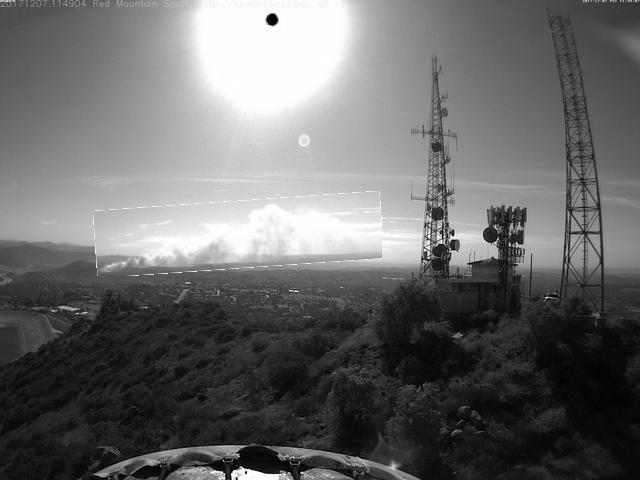smoke: (95, 197, 384, 274)
